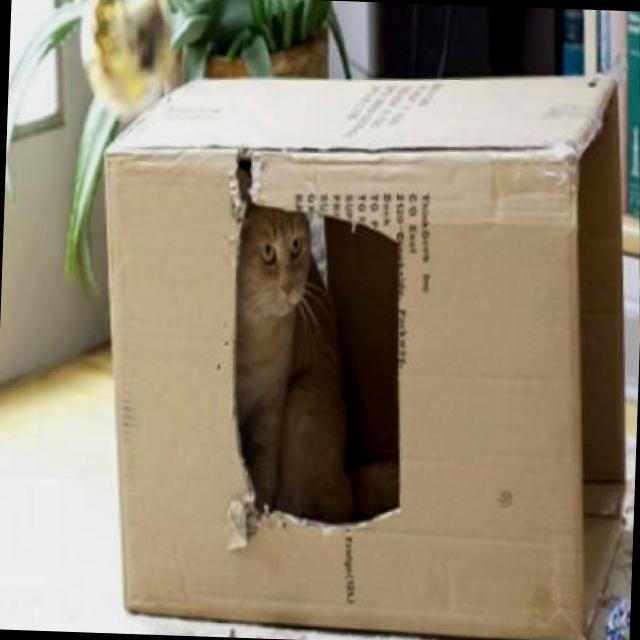box: (72, 32, 640, 640)
